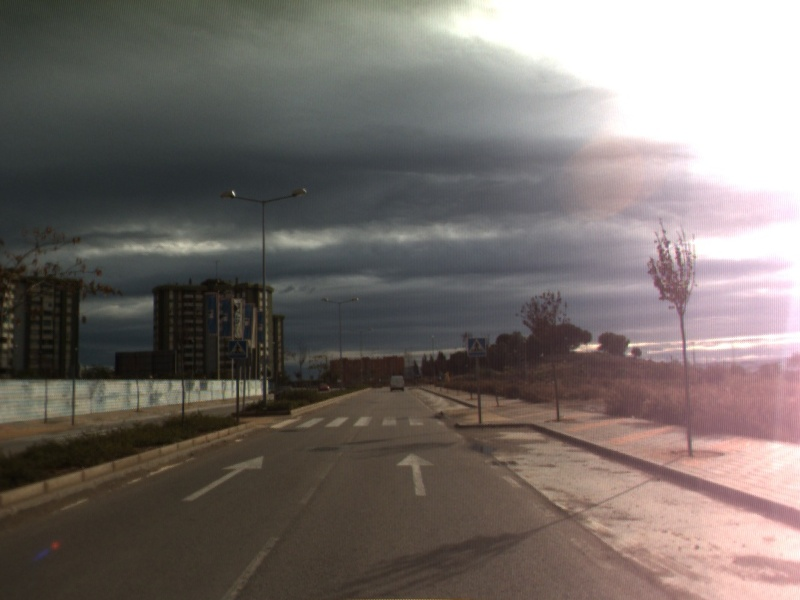STRAIGHT: (179, 454, 265, 503), (395, 450, 436, 498)
